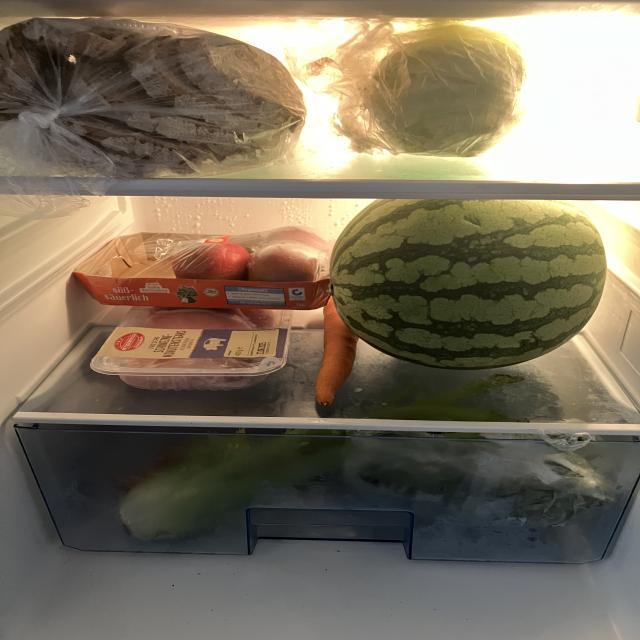Apples: (72, 225, 328, 302)
Pork: (93, 305, 300, 390)
Vegetable: (342, 428, 607, 531), (118, 434, 332, 535)
Watermelon: (338, 192, 611, 385)
bread: (1, 14, 299, 176)
cabbage: (317, 19, 545, 162)
carrot: (313, 291, 357, 412)
